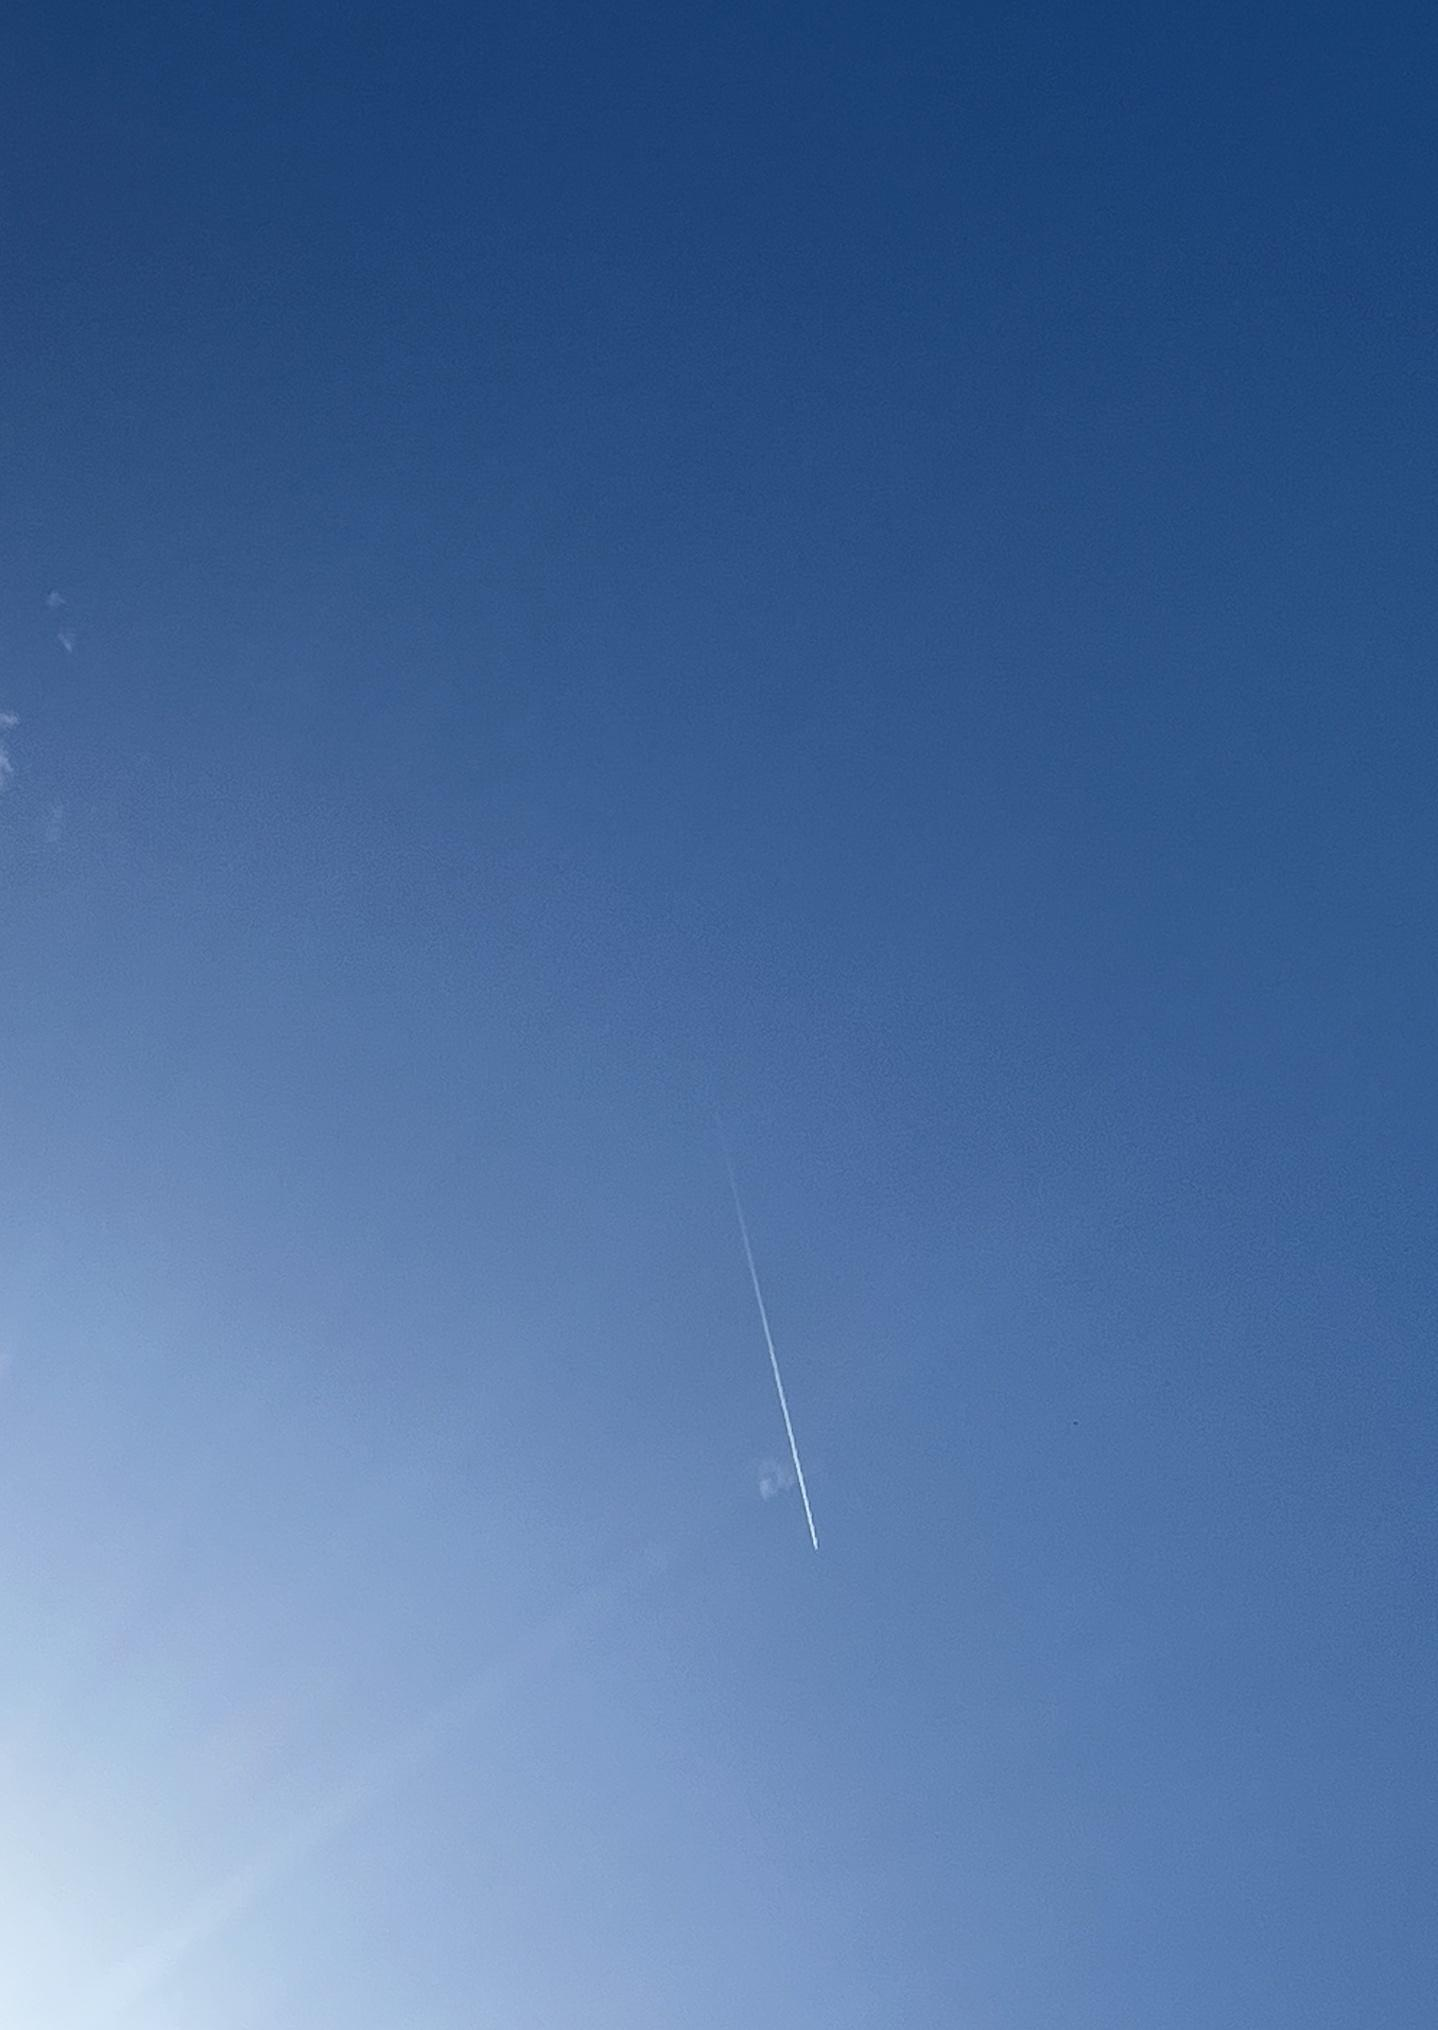Plane: (672, 1122, 884, 1574)
